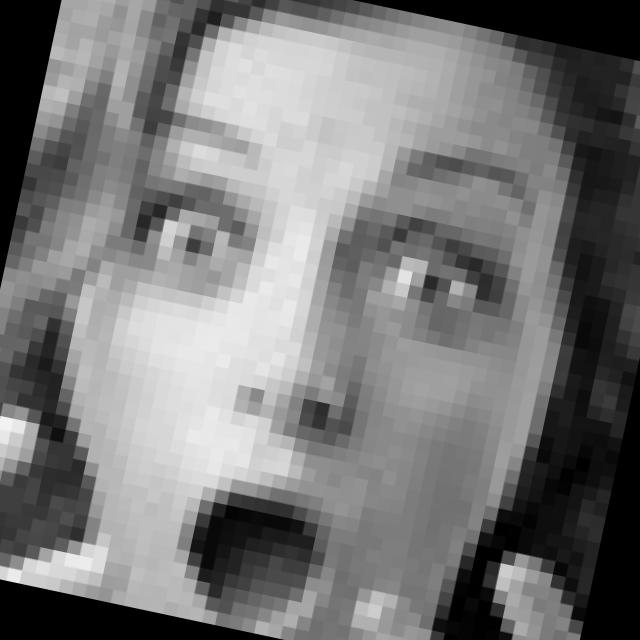surprise: (36, 83, 553, 640)
